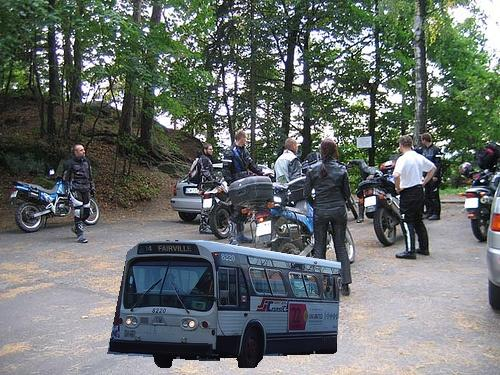tampered: (108, 241, 341, 368)
